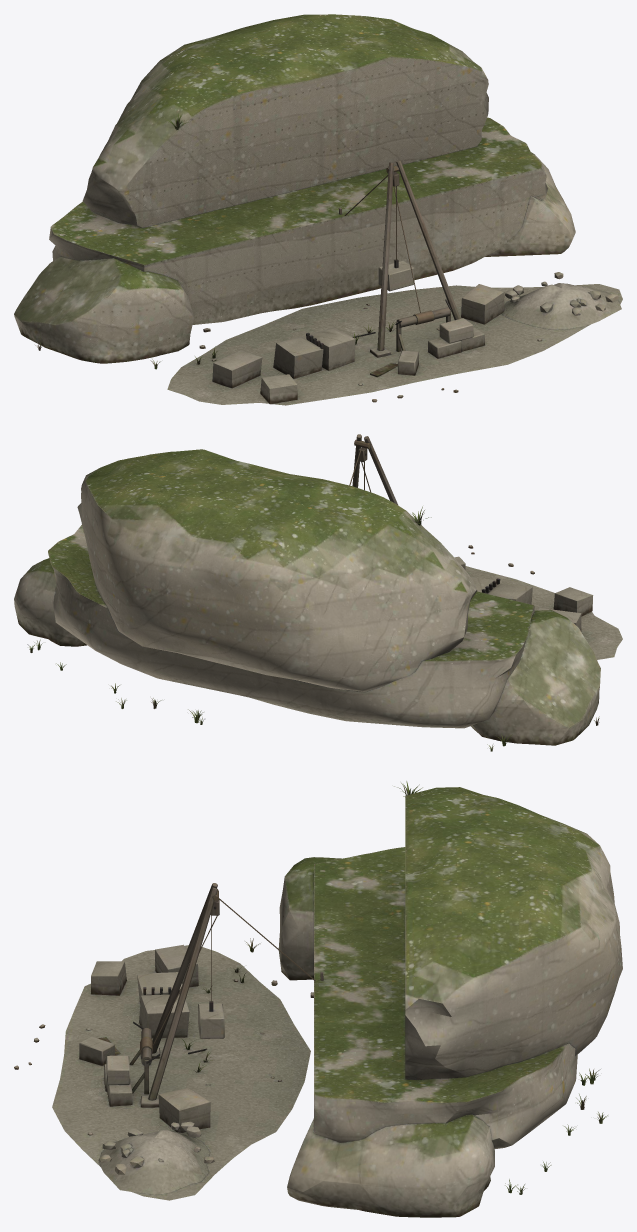
Rendered from quarry_face.glb.
3 renders of one model, top to bottom at view 1: azimuth 30°, elevation 25°; view 2: azimuth 150°, elevation 25°; view 3: azimuth 270°, elevation 25°, orthographic. The views are drawn at different scales.
Parts seen in each view (by area): view 1: quarry_face_LOD0; view 2: quarry_face_LOD0; view 3: quarry_face_LOD0.
Part boxes in pixels (<box>): quarry_face_LOD0: <box>14,14,622,405</box>; quarry_face_LOD0: <box>14,434,622,751</box>; quarry_face_LOD0: <box>14,781,622,1217</box>.
Size of what is drawn, in the model's own units: 19.33 by 6.81 by 16.
1 material, 1 textured.
